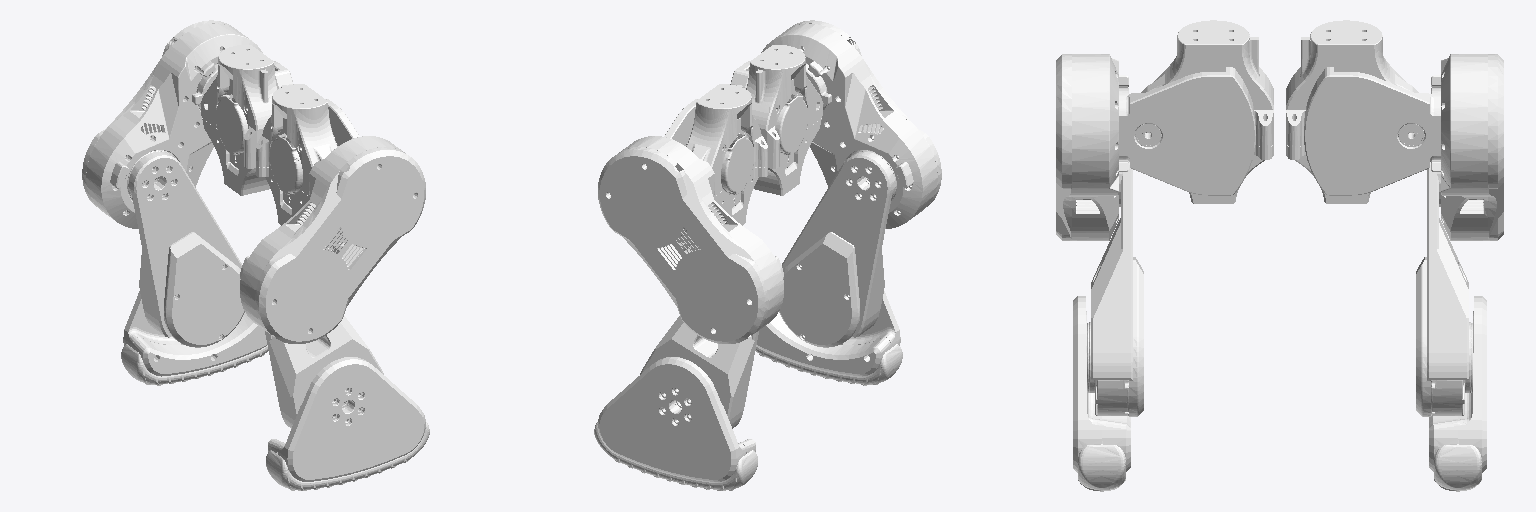
The robot description file, URDF, robot "Qmini":
<robot name="Qmini">
  <material name="white_material">
    <color rgba="1 1 1 1"/>
  </material>
  <link name="base_link">
    <inertial>
      <origin xyz="-0.014456 5.6E-05 -0.041502" rpy="0 0 0"/>
      <mass value="4.7754"/>
      <inertia ixx="0.026652" ixy="-6E-06" ixz="-0.006659" iyy="0.04973" iyz="-9E-06" izz="0.049037"/>
    </inertial>
    <visual>
      <origin xyz="0 0 0" rpy="0 0 0"/>
      <geometry>
        <mesh filename="meshes/base_link.STL"/>
      </geometry>
      <material name="white_material"/>
    </visual>
    <collision>
      <origin xyz="0 0 0" rpy="0 0 0"/>
      <geometry>
        <mesh filename="meshes/base_link.STL"/>
      </geometry>
    </collision>
  </link>
  <link name="LL_hip_yaw">
    <inertial>
      <origin xyz="0.001558 0.000796 -0.10656" rpy="0 0 0"/>
      <mass value="0.73407"/>
      <inertia ixx="0.001096" ixy="1E-06" ixz="7E-06" iyy="0.000691" iyz="4E-06" izz="0.000544"/>
    </inertial>
    <visual>
      <origin xyz="0 0 0" rpy="0 0 0"/>
      <geometry>
        <mesh filename="meshes/LL_hip_yaw.STL"/>
      </geometry>
      <material name="white_material"/>
    </visual>
    <collision>
      <origin xyz="0 0 0" rpy="0 0 0"/>
      <geometry>
        <mesh filename="meshes/LL_hip_yaw.STL"/>
      </geometry>
    </collision>
  </link>
  <joint name="LL-joint1" type="revolute">
    <origin xyz="0 0.055 0" rpy="0 0 0"/>
    <parent link="base_link"/>
    <child link="LL_hip_yaw"/>
    <axis xyz="0 0 1"/>
    <limit lower="-0.349" upper="0.525" effort="20" velocity="1"/>
  </joint>
  <link name="LL_hip_roll">
    <inertial>
      <origin xyz="0.028723 -0.018625 1.5E-05" rpy="0 0 0"/>
      <mass value="0.072409"/>
      <inertia ixx="0.000148" ixy="1.6E-05" ixz="0" iyy="5.7E-05" iyz="0" izz="0.000112"/>
    </inertial>
    <visual>
      <origin xyz="0 0 0" rpy="0 0 0"/>
      <geometry>
        <mesh filename="meshes/LL_hip_roll.STL"/>
      </geometry>
      <material name="white_material"/>
    </visual>
    <collision>
      <origin xyz="0 0 0" rpy="0 0 0"/>
      <geometry>
        <mesh filename="meshes/LL_hip_roll.STL"/>
      </geometry>
    </collision>
  </link>
  <joint name="LL-joint2" type="revolute">
    <origin xyz="0 0.054 -0.1073" rpy="0 0 0"/>
    <parent link="LL_hip_yaw"/>
    <child link="LL_hip_roll"/>
    <axis xyz="1 0 0"/>
    <limit lower="-0.275" upper="0.698" effort="60" velocity="0.3"/>
  </joint>
  <link name="LL_hip_pitch">
    <inertial>
      <origin xyz="-0.040715 0.019181 -0.04067" rpy="0 0 0"/>
      <mass value="1.4071"/>
      <inertia ixx="0.003407" ixy="-6E-06" ixz="-0.002303" iyy="0.006531" iyz="-4E-06" izz="0.00343"/>
    </inertial>
    <visual>
      <origin xyz="0 0 0" rpy="0 0 0"/>
      <geometry>
        <mesh filename="meshes/LL_hip_pitch.STL"/>
      </geometry>
      <material name="white_material"/>
    </visual>
    <collision>
      <origin xyz="0 0 0" rpy="0 0 0"/>
      <geometry>
        <mesh filename="meshes/LL_hip_pitch.STL"/>
      </geometry>
    </collision>
  </link>
  <joint name="LL-joint3" type="revolute">
    <origin xyz="0.0165 0.028 0" rpy="0 0 0"/>
    <parent link="LL_hip_roll"/>
    <child link="LL_hip_pitch"/>
    <axis xyz="0 1 0"/>
    <limit lower="-0.61" upper="1.483" effort="20" velocity="1"/>
  </joint>
  <link name="LL_knee">
    <inertial>
      <origin xyz="0.048081 0.002331 -0.13228" rpy="0 0 0"/>
      <mass value="0.76749"/>
      <inertia ixx="0.001333" ixy="-2.6E-05" ixz="0.000282" iyy="0.001852" iyz="7E-05" izz="0.000662"/>
    </inertial>
    <visual>
      <origin xyz="0 0 0" rpy="0 0 0"/>
      <geometry>
        <mesh filename="meshes/LL_knee.STL"/>
      </geometry>
      <material name="white_material"/>
    </visual>
    <collision>
      <origin xyz="0 0 0" rpy="0 0 0"/>
      <geometry>
        <mesh filename="meshes/LL_knee.STL"/>
      </geometry>
    </collision>
  </link>
  <joint name="LL-joint4" type="revolute">
    <origin xyz="-0.081317 -0.0003 -0.081317" rpy="0 0 0"/>
    <parent link="LL_hip_pitch"/>
    <child link="LL_knee"/>
    <axis xyz="0 1 0"/>
    <limit lower="-1.117" upper="1.047" effort="20" velocity="1"/>
  </joint>
  <link name="LL_ankle">
    <inertial>
      <origin xyz="0.013735 -0.006344 -0.045775" rpy="0 0 0"/>
      <mass value="0.2038"/>
      <inertia ixx="0.000225" ixy="1.1E-05" ixz="0" iyy="0.000653" iyz="-4E-05" izz="0.000505"/>
    </inertial>
    <visual>
      <origin xyz="0 0 0" rpy="0 0 0"/>
      <geometry>
        <mesh filename="meshes/LL_ankle.STL"/>
      </geometry>
      <material name="white_material"/>
    </visual>
    <collision>
      <origin xyz="0 0 0" rpy="0 0 0"/>
      <geometry>
        <mesh filename="meshes/LL_ankle.STL"/>
      </geometry>
    </collision>
  </link>
  <joint name="LL-joint5" type="revolute">
    <origin xyz="0.053013 0.0228 -0.14565" rpy="0 0 0"/>
    <parent link="LL_knee"/>
    <child link="LL_ankle"/>
    <axis xyz="0 1 0"/>
    <limit lower="-1.396" upper="1.221" effort="20" velocity="1"/>
  </joint>
  <link name="RL_hip_yaw">
    <inertial>
      <origin xyz="0.001558 -0.000796 -0.10656" rpy="0 0 0"/>
      <mass value="0.73407"/>
      <inertia ixx="0.001096" ixy="-1E-06" ixz="7E-06" iyy="0.000691" iyz="-4E-06" izz="0.000544"/>
    </inertial>
    <visual>
      <origin xyz="0 0 0" rpy="0 0 0"/>
      <geometry>
        <mesh filename="meshes/RL_hip_yaw.STL"/>
      </geometry>
      <material name="white_material"/>
    </visual>
    <collision>
      <origin xyz="0 0 0" rpy="0 0 0"/>
      <geometry>
        <mesh filename="meshes/RL_hip_yaw.STL"/>
      </geometry>
    </collision>
  </link>
  <joint name="RL-joint1" type="revolute">
    <origin xyz="0 -0.055 0" rpy="0 0 0"/>
    <parent link="base_link"/>
    <child link="RL_hip_yaw"/>
    <axis xyz="0 0 1"/>
    <limit lower="-0.525" upper="0.349" effort="20" velocity="1"/>
  </joint>
  <link name="RL_hip_roll">
    <inertial>
      <origin xyz="0.028723 0.018625 1.5E-05" rpy="0 0 0"/>
      <mass value="0.072409"/>
      <inertia ixx="0.000148" ixy="-1.6E-05" ixz="0" iyy="5.7E-05" iyz="0" izz="0.000112"/>
    </inertial>
    <visual>
      <origin xyz="0 0 0" rpy="0 0 0"/>
      <geometry>
        <mesh filename="meshes/RL_hip_roll.STL"/>
      </geometry>
      <material name="white_material"/>
    </visual>
    <collision>
      <origin xyz="0 0 0" rpy="0 0 0"/>
      <geometry>
        <mesh filename="meshes/RL_hip_roll.STL"/>
      </geometry>
    </collision>
  </link>
  <joint name="RL-joint2" type="revolute">
    <origin xyz="0 -0.054 -0.1073" rpy="0 0 0"/>
    <parent link="RL_hip_yaw"/>
    <child link="RL_hip_roll"/>
    <axis xyz="1 0 0"/>
    <limit lower="-0.698" upper="0.275" effort="60" velocity="0.3"/>
  </joint>
  <link name="RL_hip_pitch">
    <inertial>
      <origin xyz="-0.040715 -0.019181 -0.04067" rpy="0 0 0"/>
      <mass value="1.4071"/>
      <inertia ixx="0.003407" ixy="6E-06" ixz="-0.002303" iyy="0.006531" iyz="4E-06" izz="0.00343"/>
    </inertial>
    <visual>
      <origin xyz="0 0 0" rpy="0 0 0"/>
      <geometry>
        <mesh filename="meshes/RL_hip_pitch.STL"/>
      </geometry>
      <material name="white_material"/>
    </visual>
    <collision>
      <origin xyz="0 0 0" rpy="0 0 0"/>
      <geometry>
        <mesh filename="meshes/RL_hip_pitch.STL"/>
      </geometry>
    </collision>
  </link>
  <joint name="RL-joint3" type="revolute">
    <origin xyz="0.0165 -0.028 0" rpy="0 0 0"/>
    <parent link="RL_hip_roll"/>
    <child link="RL_hip_pitch"/>
    <axis xyz="0 1 0"/>
    <limit lower="-0.61" upper="1.483" effort="20" velocity="1"/>
  </joint>
  <link name="RL_knee">
    <inertial>
      <origin xyz="0.048081 -0.002331 -0.13228" rpy="0 0 0"/>
      <mass value="0.76749"/>
      <inertia ixx="0.001333" ixy="2.6E-05" ixz="0.000282" iyy="0.001852" iyz="-7E-05" izz="0.000662"/>
    </inertial>
    <visual>
      <origin xyz="0 0 0" rpy="0 0 0"/>
      <geometry>
        <mesh filename="meshes/RL_knee.STL"/>
      </geometry>
      <material name="white_material"/>
    </visual>
    <collision>
      <origin xyz="0 0 0" rpy="0 0 0"/>
      <geometry>
        <mesh filename="meshes/RL_knee.STL"/>
      </geometry>
    </collision>
  </link>
  <joint name="RL-joint4" type="revolute">
    <origin xyz="-0.081317 0.0003 -0.081317" rpy="0 0 0"/>
    <parent link="RL_hip_pitch"/>
    <child link="RL_knee"/>
    <axis xyz="0 1 0"/>
    <limit lower="-1.117" upper="1.047" effort="20" velocity="1"/>
  </joint>
  <link name="RL_ankle">
    <inertial>
      <origin xyz="0.013735 0.006344 -0.045775" rpy="0 0 0"/>
      <mass value="0.2038"/>
      <inertia ixx="0.000225" ixy="-1.1E-05" ixz="0" iyy="0.000653" iyz="4E-05" izz="0.000505"/>
    </inertial>
    <visual>
      <origin xyz="0 0 0" rpy="0 0 0"/>
      <geometry>
        <mesh filename="meshes/RL_ankle.STL"/>
      </geometry>
      <material name="white_material"/>
    </visual>
    <collision>
      <origin xyz="0 0 0" rpy="0 0 0"/>
      <geometry>
        <mesh filename="meshes/RL_ankle.STL"/>
      </geometry>
    </collision>
  </link>
  <joint name="RL-joint5" type="revolute">
    <origin xyz="0.053013 -0.0228 -0.14565" rpy="0 0 0"/>
    <parent link="RL_knee"/>
    <child link="RL_ankle"/>
    <axis xyz="0 1 0"/>
    <limit lower="-1.396" upper="1.221" effort="20" velocity="1"/>
  </joint>
</robot>

--- What the picture shows (computed from the rendered views, not written in the file) ---
3 views of the same robot in one strip: view 1: azimuth 30°, elevation 25°; view 2: azimuth 150°, elevation 25°; view 3: azimuth 270°, elevation 25° (orthographic).
Model Qmini with 11 links and 10 joints (10 revolute), rooted at base_link, posed all joints at 0.
Links seen in each view (by area): view 1: RL_hip_pitch, LL_knee, RL_ankle, LL_hip_pitch, LL_hip_yaw, RL_hip_yaw, LL_ankle, RL_knee, RL_hip_roll, LL_hip_roll; view 2: LL_hip_pitch, RL_knee, LL_ankle, RL_hip_pitch, RL_hip_yaw, LL_hip_yaw, RL_ankle, LL_knee, LL_hip_roll, RL_hip_roll; view 3: LL_hip_roll, RL_hip_roll, LL_hip_pitch, RL_hip_pitch, LL_knee, RL_knee, LL_hip_yaw, RL_hip_yaw, LL_ankle, RL_ankle.
Link boxes in pixels (x1,y1,x2,y2): RL_hip_pitch: (240, 136, 425, 343); LL_knee: (128, 151, 244, 347); RL_ankle: (266, 357, 429, 490); LL_hip_pitch: (82, 20, 262, 228); LL_hip_yaw: (201, 45, 277, 195); RL_hip_yaw: (256, 84, 337, 225); LL_ankle: (121, 291, 268, 385); RL_knee: (265, 316, 383, 428); RL_hip_roll: (326, 99, 359, 145); LL_hip_roll: (192, 61, 293, 107); LL_hip_pitch: (598, 136, 783, 343); RL_knee: (779, 151, 895, 347); LL_ankle: (594, 357, 757, 490); RL_hip_pitch: (761, 20, 941, 228); RL_hip_yaw: (746, 45, 822, 195); LL_hip_yaw: (686, 84, 767, 225); RL_ankle: (755, 291, 902, 385); LL_knee: (640, 316, 758, 428); LL_hip_roll: (664, 99, 697, 145); RL_hip_roll: (730, 61, 831, 107); LL_hip_roll: (1304, 67, 1440, 195); RL_hip_roll: (1119, 67, 1255, 195); LL_hip_pitch: (1431, 54, 1503, 240); RL_hip_pitch: (1056, 54, 1128, 240); LL_knee: (1416, 162, 1472, 416); RL_knee: (1087, 162, 1143, 416); LL_hip_yaw: (1286, 20, 1418, 203); RL_hip_yaw: (1141, 20, 1273, 203); LL_ankle: (1429, 296, 1486, 491); RL_ankle: (1073, 296, 1130, 491).
Bounding box of the posed robot: 0.2108 × 0.3706 × 0.3944 m (x, y, z).
10 mesh visuals loaded from 11 distinct referenced files (10 binary STL); not drawn: 1 (reference not matched to a file when rendering).